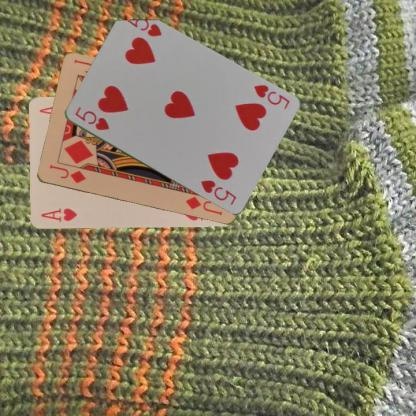5h: (250, 82, 291, 110), (72, 104, 110, 132)
Ah: (38, 206, 78, 224)
Jd: (46, 162, 87, 185)
